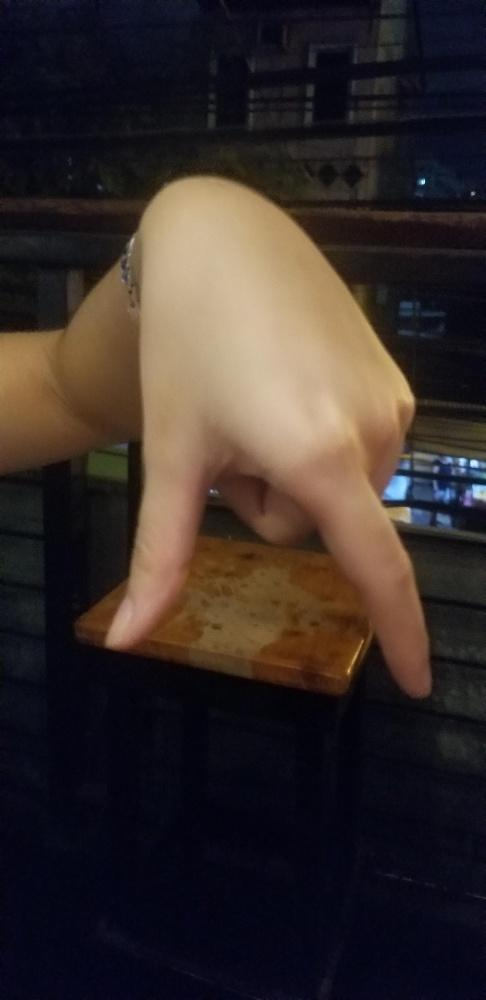q: (101, 172, 433, 698)
